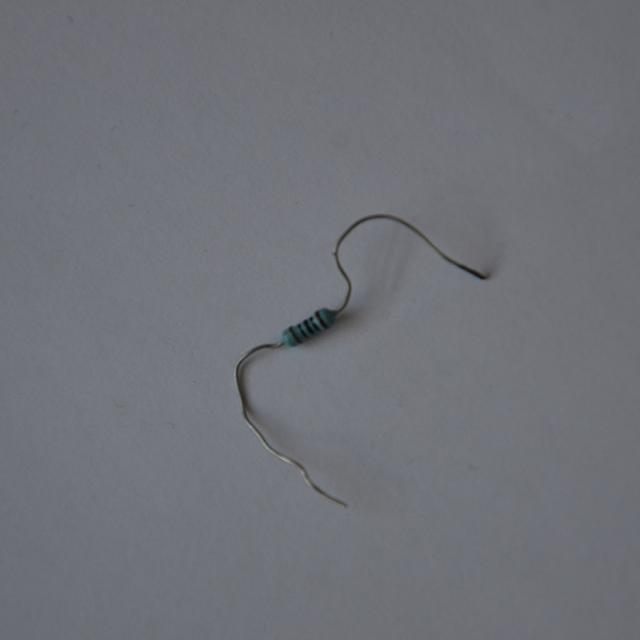Resistor Carbon-Film: (277, 302, 344, 353)
